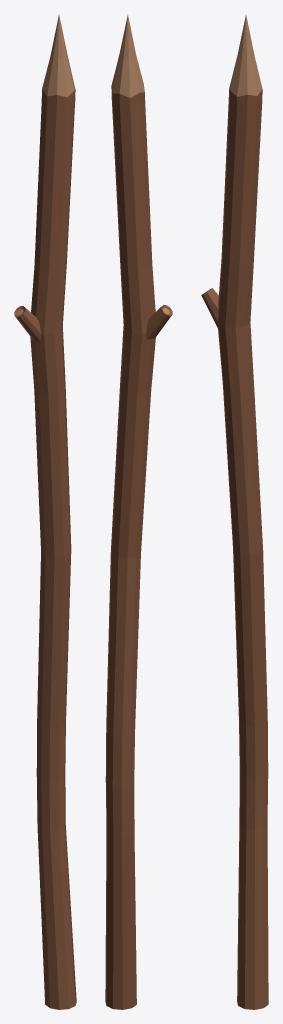
File: Wooden Spear.fbx
3 renders of one model, left to right at view 1: azimuth 30°, elevation 25°; view 2: azimuth 150°, elevation 25°; view 3: azimuth 330°, elevation 25°, orthographic.
Visible parts, largest first — view 1: Wooden Spear; view 2: Wooden Spear; view 3: Wooden Spear.
Part boxes in pixels (left/top/right/bottom): Wooden Spear: left=14, top=14, right=76, bottom=1009; Wooden Spear: left=105, top=14, right=172, bottom=1009; Wooden Spear: left=201, top=14, right=268, bottom=1009.
Size of the model in its own units: 13.19 by 204 by 8.88.
